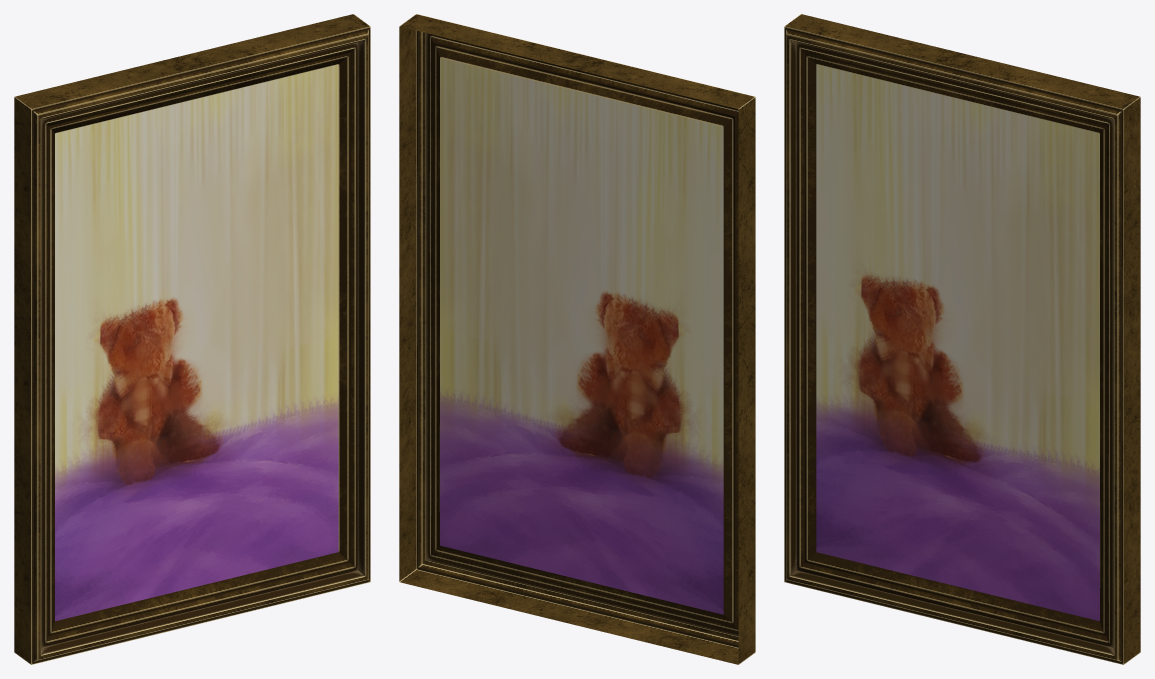
File: painting-portrait-13.fbx
3 views of the same model, side by side, from view 1: azimuth 30°, elevation 25°; view 2: azimuth 150°, elevation 25°; view 3: azimuth 330°, elevation 25° (orthographic).
Visible parts, largest first — view 1: painting_Var2; view 2: painting_Var2; view 3: painting_Var2.
Boxes of the visible parts, x1=… form: painting_Var2: x1=14, y1=14, x2=370, y2=664; painting_Var2: x1=399, y1=14, x2=755, y2=664; painting_Var2: x1=784, y1=14, x2=1140, y2=664.
Bounding box in the file's own units: 59.07 × 92.39 × 5.86.
2 materials, 2 textured.
